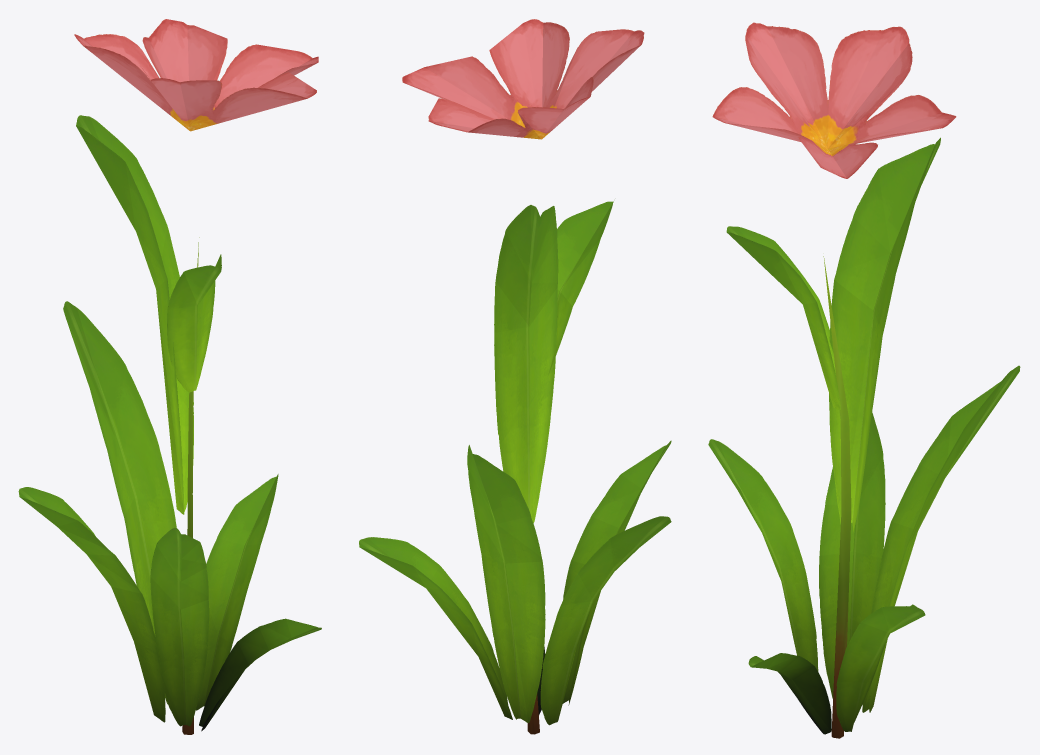
File: Flower_3_Single.glb
3 views of the same model, side by side, from view 1: azimuth 30°, elevation 25°; view 2: azimuth 150°, elevation 25°; view 3: azimuth 270°, elevation 25° (orthographic). The views are drawn at different scales.
Bounding box in the file's own units: 0.9067 × 2.07 × 0.8775.
2 materials, 2 textured.
